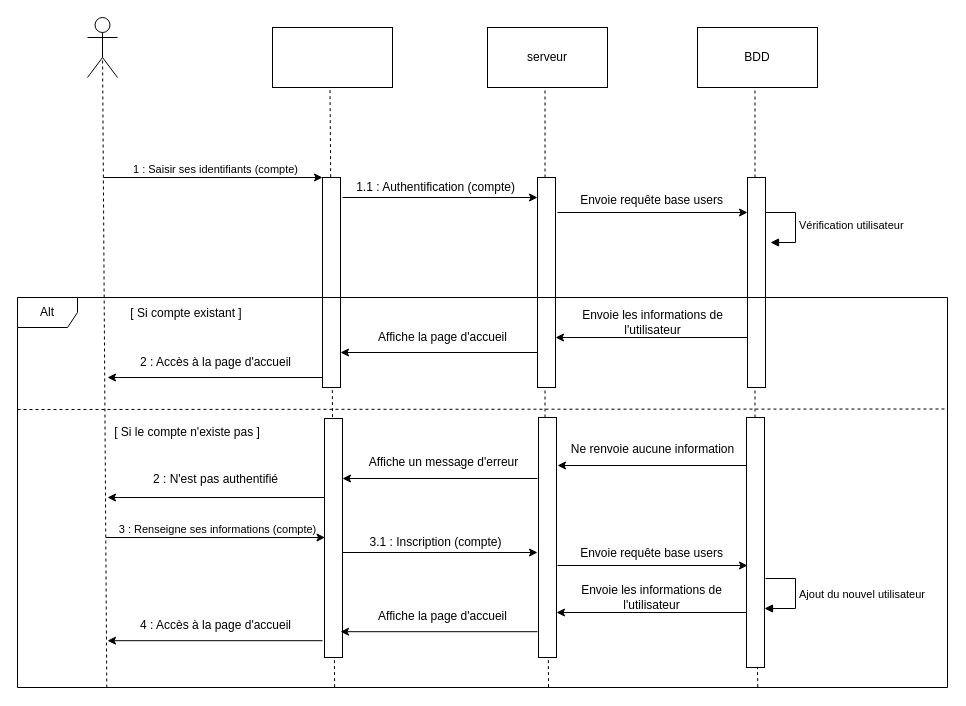
This 966x706 diagram has some shape labels left out. Here are the shapes that lost their labels. From the top down, the centre of each, then its label:
[102,47]: Utilisateur
[332,57]: system
